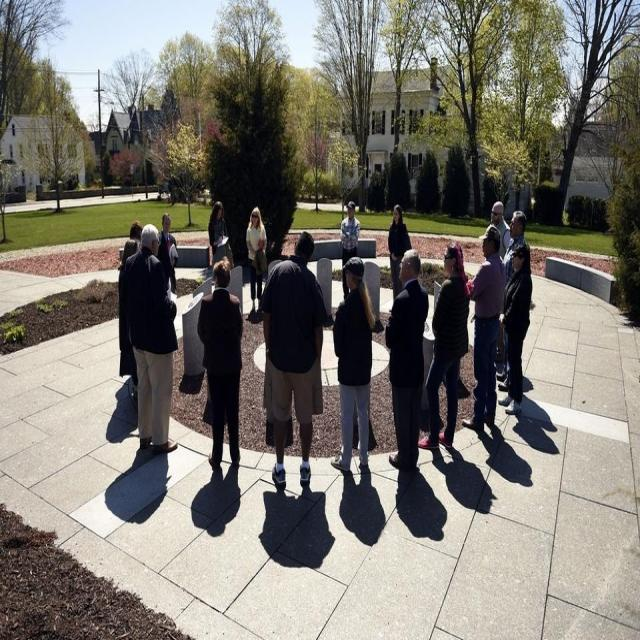body: (257, 229, 335, 490), (123, 222, 180, 457), (414, 240, 470, 451), (477, 392, 564, 524), (383, 246, 430, 470), (327, 255, 375, 474), (195, 258, 244, 470), (460, 223, 507, 432), (257, 486, 337, 571), (498, 242, 534, 417), (496, 210, 528, 393), (102, 450, 172, 529), (428, 444, 477, 542), (338, 466, 387, 547), (190, 465, 242, 538), (117, 238, 140, 400), (245, 204, 268, 317), (392, 469, 428, 541), (387, 204, 413, 302), (105, 377, 140, 445), (339, 200, 361, 302), (156, 212, 180, 296), (208, 200, 235, 273), (486, 199, 513, 260), (128, 219, 143, 247)
